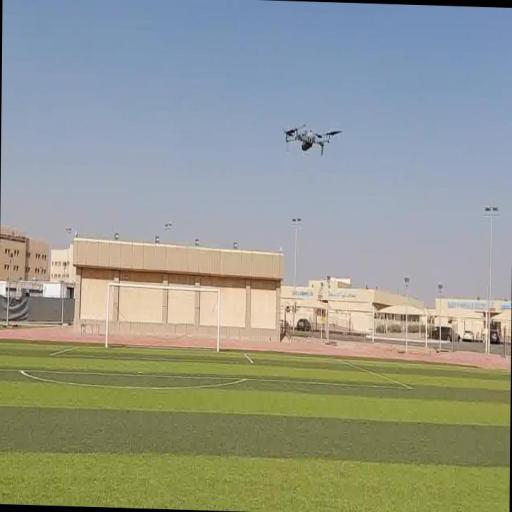drone: (283, 121, 343, 157)
